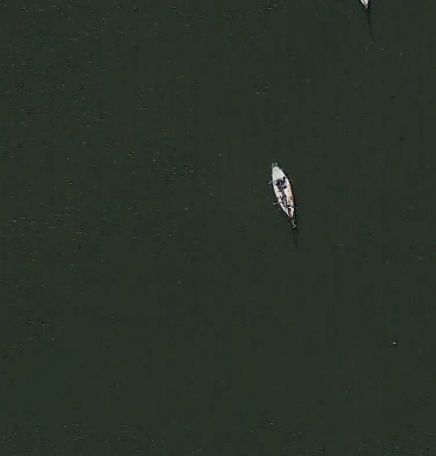boat: (267, 162, 299, 227)
